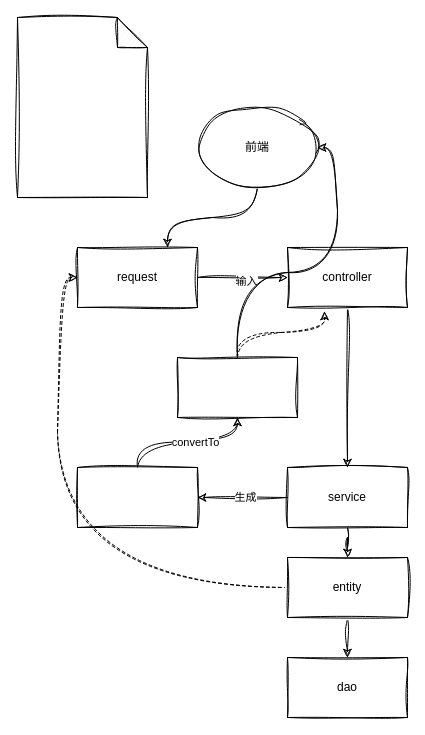
Some shapes in this 425 by 735 pixel diagram are drawn without their labels. Here are the shapes that lost their labels. From the top down, the box of each, then its label:
(16, 16, 148, 198): 这里正常需要通过bo传递到dto，dto 再到 reseponse（没必要，基本上是一致的，有些甚至直接）
(176, 356, 298, 418): response
(76, 466, 198, 528): bo
